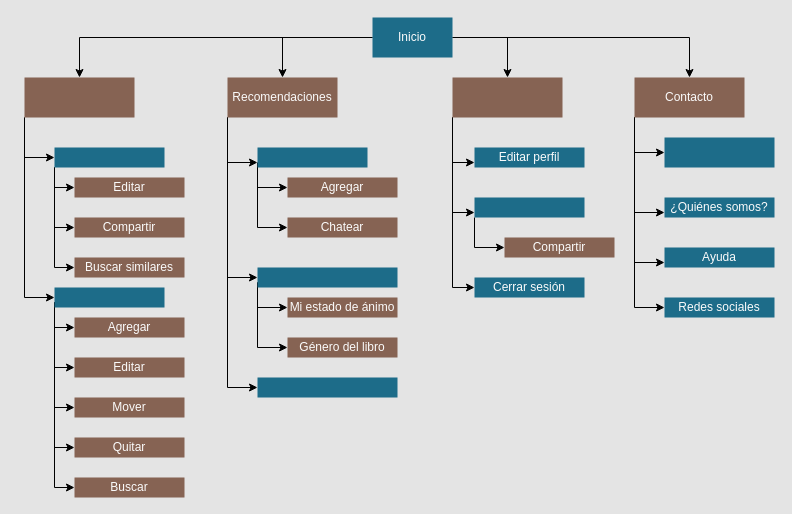
Image size: 792x514. Some labels were removed from this diagram. Here are the shapes that lost their labels. From the top down, the centre of each, then its label:
(79,97): Mi biblioteca
(507,97): Mi perfil
(109,157): Biblioteca
(312,157): Otros bookworms
(719,152): Preguntas frecuentes
(529,207): Lista de deseos
(109,297): Libros
(327,277): Buscar recomendaciones
(327,387): Recomendados para mí
